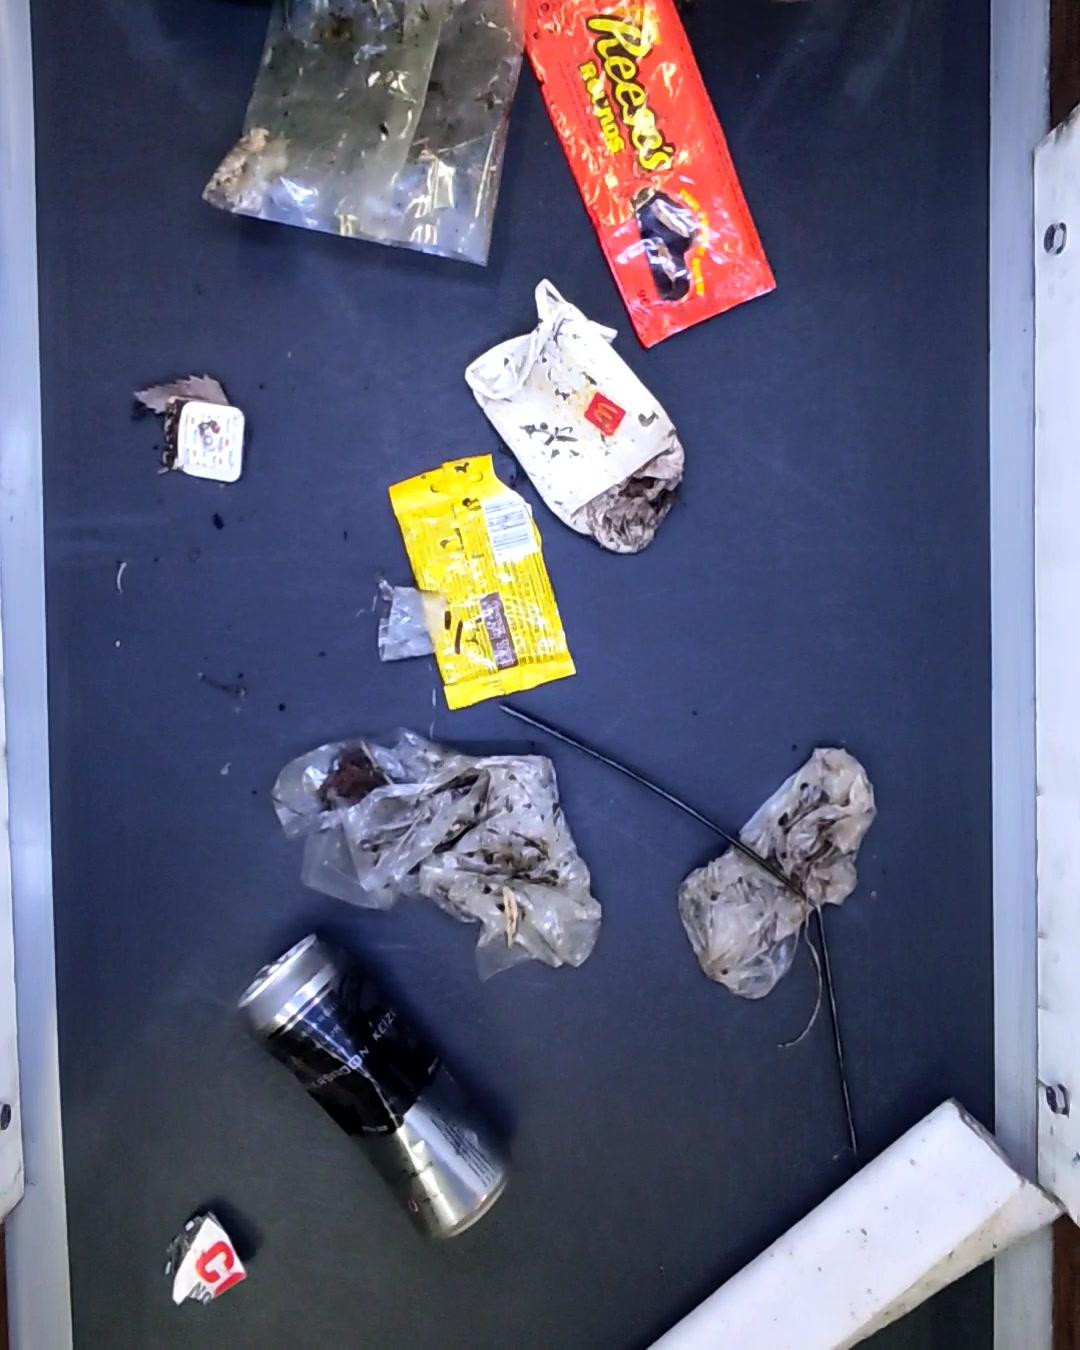Drankblikjes: (233, 931, 517, 1245)
Plastic folies of stukken daarvan 2.5- 50 cm: (201, 0, 530, 268), (270, 734, 605, 976), (674, 746, 878, 1004), (371, 572, 451, 662)
Snoep snack en chips verpakkingen: (506, 0, 786, 352), (392, 453, 577, 713), (158, 1219, 252, 1307)
